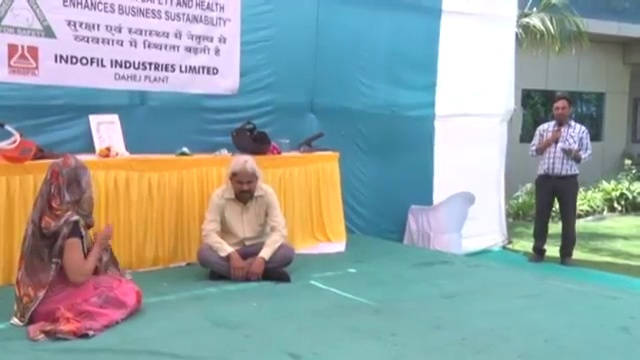helmet_off: (38, 155, 95, 224), (227, 155, 260, 205), (552, 94, 573, 125)
person: (10, 155, 143, 342), (197, 155, 297, 285), (528, 94, 595, 265)
